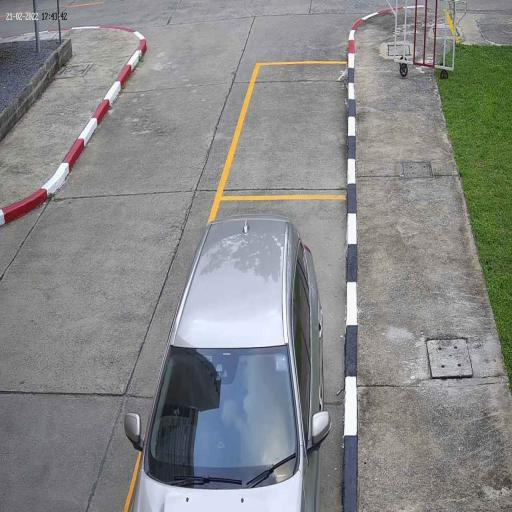car: (125, 216, 332, 512)
